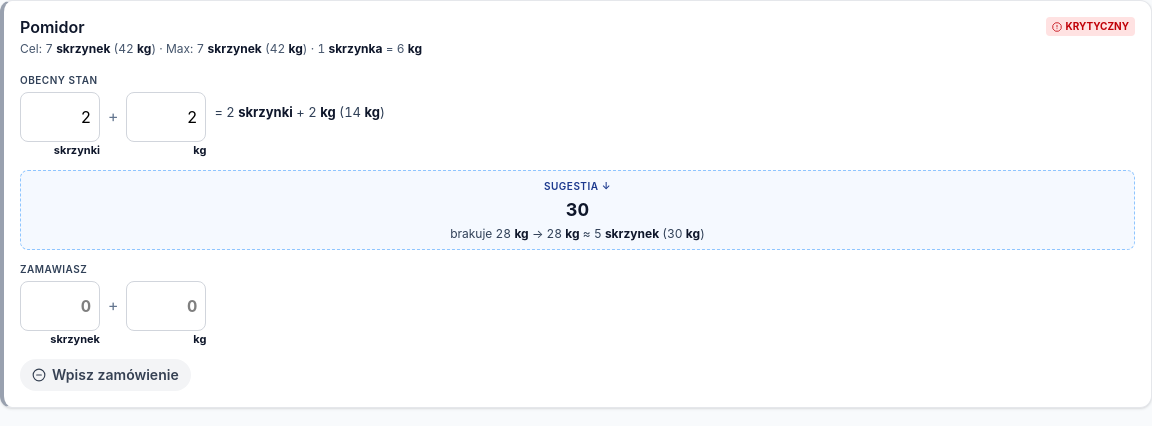
Test: ProductCard — bulk pack (feedback-1001 D22/D33) › tapping the suggestion fills whole crates into both fields
This screenshot has width=1152, height=426.
Step 1. Click the button with aria-label "Zaakceptuj sugestię: 30 kg" → x=578, y=210, box [20,170,1135,250]
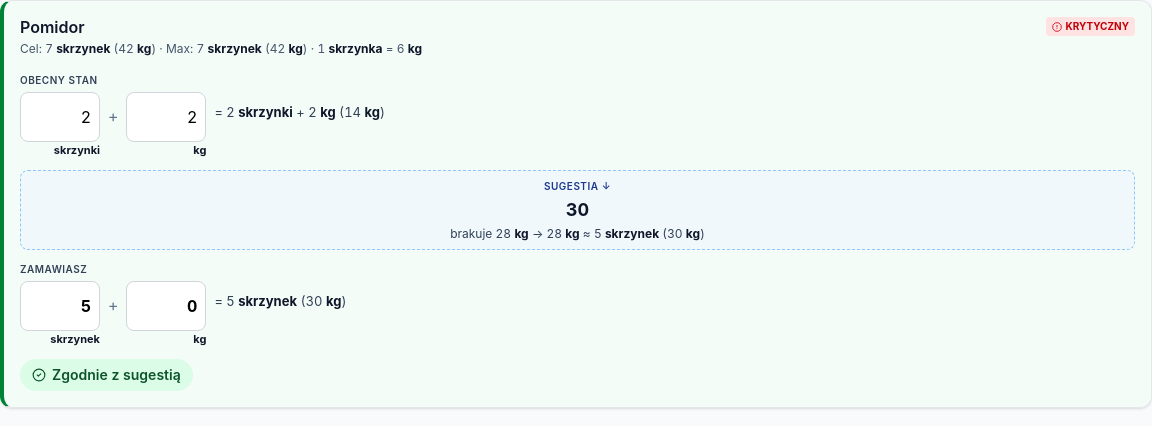
expect the field named "Zamawiasz, skrzynka" holds "5": met, box [20,281,100,331]
expect the field named "Zamawiasz, kg" holds "0": met, box [126,281,206,331]
